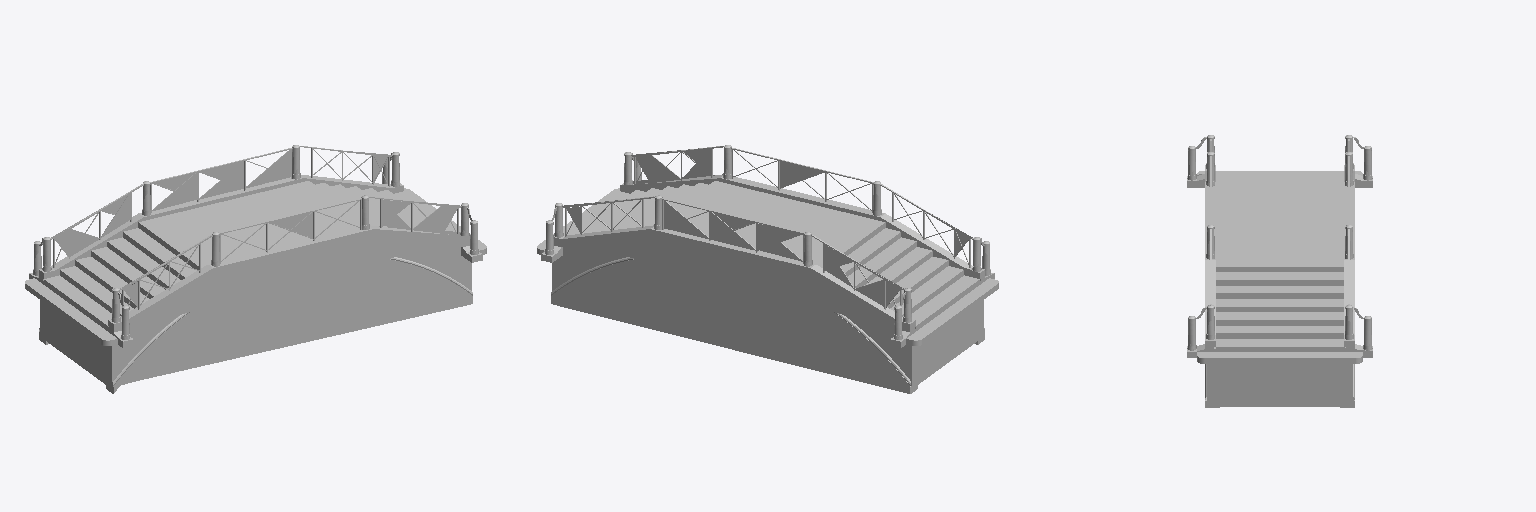
Rendered from ponete del pugni.obj.
3 renders of one model, left to right at view 1: azimuth 30°, elevation 25°; view 2: azimuth 150°, elevation 25°; view 3: azimuth 270°, elevation 25°, orthographic.
Parts seen in each view (by area): view 1: Mesh1 Model; view 2: Mesh1 Model; view 3: Mesh1 Model.
Boxes of the visible parts, x1,y1,x2,y2 form: Mesh1 Model: [25, 145, 486, 393]; Mesh1 Model: [537, 145, 998, 393]; Mesh1 Model: [1187, 135, 1372, 407].
Bounding box in the file's own units: 107 × 35.73 × 45.